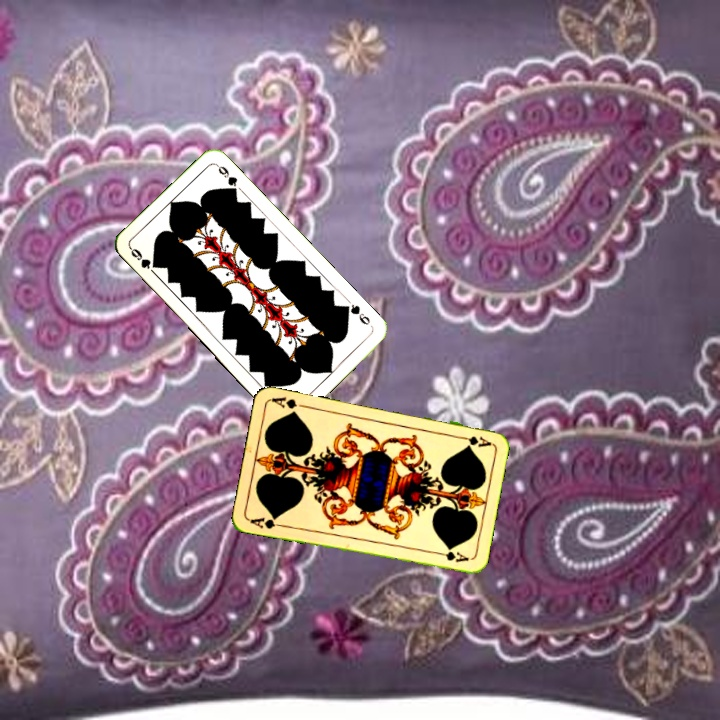G9: (126, 244, 160, 272), (339, 300, 373, 327)
GA: (246, 513, 286, 531), (453, 432, 494, 449)
